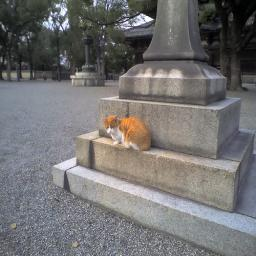catnose: (108, 130, 112, 134)
